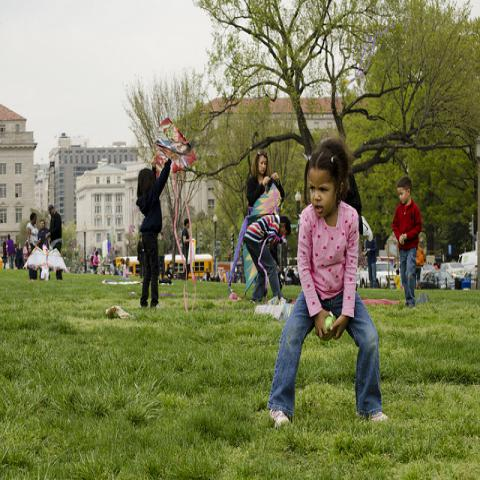bus: (164, 253, 214, 282), (116, 256, 140, 277)
car: (360, 262, 396, 290), (438, 262, 476, 284), (421, 271, 455, 290), (457, 253, 476, 274)
